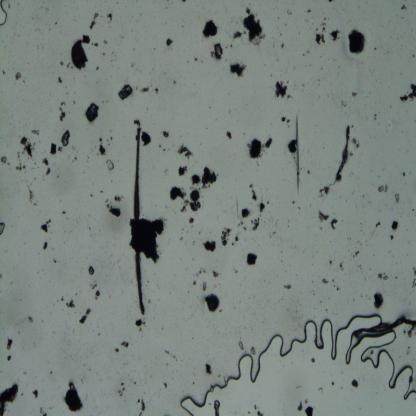Air bubble: (179, 310, 383, 414), (357, 325, 416, 400), (343, 334, 360, 365), (0, 1, 10, 29), (212, 398, 222, 415), (310, 356, 316, 364)
Background material: (126, 215, 165, 265), (287, 112, 301, 196), (244, 5, 267, 46), (246, 132, 276, 159), (71, 34, 92, 71), (63, 380, 85, 412), (0, 380, 20, 415), (82, 100, 104, 125), (348, 29, 367, 56), (226, 58, 249, 79), (199, 18, 218, 40), (203, 166, 219, 189), (20, 136, 36, 159), (370, 288, 385, 311), (399, 82, 416, 102), (208, 41, 224, 62), (274, 79, 290, 100), (204, 294, 221, 312), (118, 82, 134, 101), (177, 144, 193, 160), (58, 99, 69, 122), (220, 227, 232, 247), (168, 188, 187, 200), (106, 202, 121, 217), (61, 129, 72, 149), (79, 308, 91, 326), (248, 181, 258, 202), (329, 26, 341, 43), (14, 153, 25, 171), (164, 348, 178, 362), (202, 239, 217, 252), (134, 316, 146, 332), (316, 186, 330, 199), (40, 218, 52, 233), (105, 157, 117, 172), (89, 13, 99, 30), (28, 189, 38, 206), (141, 130, 151, 147), (246, 252, 258, 266), (136, 400, 146, 416), (239, 207, 252, 219), (288, 139, 297, 156), (390, 217, 400, 232), (315, 32, 327, 44), (190, 174, 202, 186), (190, 200, 202, 212), (178, 164, 189, 177), (116, 382, 126, 396), (378, 182, 389, 194), (224, 129, 235, 141), (250, 218, 260, 231), (317, 211, 330, 221), (100, 138, 107, 156), (5, 336, 14, 350), (352, 136, 361, 150), (253, 404, 263, 416), (182, 197, 189, 214), (377, 272, 390, 281), (31, 388, 40, 401), (411, 265, 416, 288), (192, 269, 206, 277), (330, 278, 340, 289), (304, 405, 316, 414), (256, 201, 265, 213), (330, 218, 339, 230), (114, 194, 124, 204), (66, 300, 76, 310), (280, 115, 291, 124), (205, 362, 212, 376), (296, 400, 304, 412), (393, 192, 401, 204), (0, 156, 9, 166), (29, 129, 41, 136), (338, 260, 345, 272), (351, 378, 358, 390), (39, 406, 47, 416), (134, 118, 142, 128), (166, 37, 174, 47), (212, 269, 220, 279), (232, 31, 242, 39), (320, 278, 330, 286), (234, 230, 240, 243), (50, 142, 56, 155), (88, 265, 95, 276), (4, 354, 13, 362), (14, 72, 22, 81), (161, 131, 170, 139), (340, 98, 348, 107), (106, 13, 114, 22), (140, 86, 149, 94), (0, 221, 5, 235), (120, 341, 130, 348), (90, 280, 98, 288), (352, 250, 360, 258), (27, 315, 34, 324), (42, 241, 48, 251), (238, 341, 244, 351), (250, 346, 256, 356), (203, 280, 208, 292), (42, 156, 48, 166), (400, 3, 407, 11), (52, 256, 58, 265), (188, 216, 194, 225), (375, 220, 381, 229), (46, 166, 52, 175), (319, 386, 324, 396), (95, 290, 100, 300), (113, 346, 120, 353), (162, 382, 168, 390), (284, 284, 292, 290), (154, 87, 160, 95), (350, 91, 358, 97), (373, 112, 378, 121), (390, 234, 395, 242), (58, 145, 63, 153), (280, 42, 286, 48), (57, 77, 62, 83), (402, 172, 406, 179), (94, 42, 99, 47), (61, 209, 66, 214), (194, 56, 198, 62), (109, 136, 113, 141), (328, 0, 334, 3), (60, 62, 64, 66), (192, 281, 196, 285), (61, 296, 64, 301), (90, 193, 93, 198)
Cellulose filter fibre: (331, 124, 352, 187), (354, 318, 416, 338)
Diatom: (190, 190, 200, 200)
Hair: (130, 126, 146, 315)
